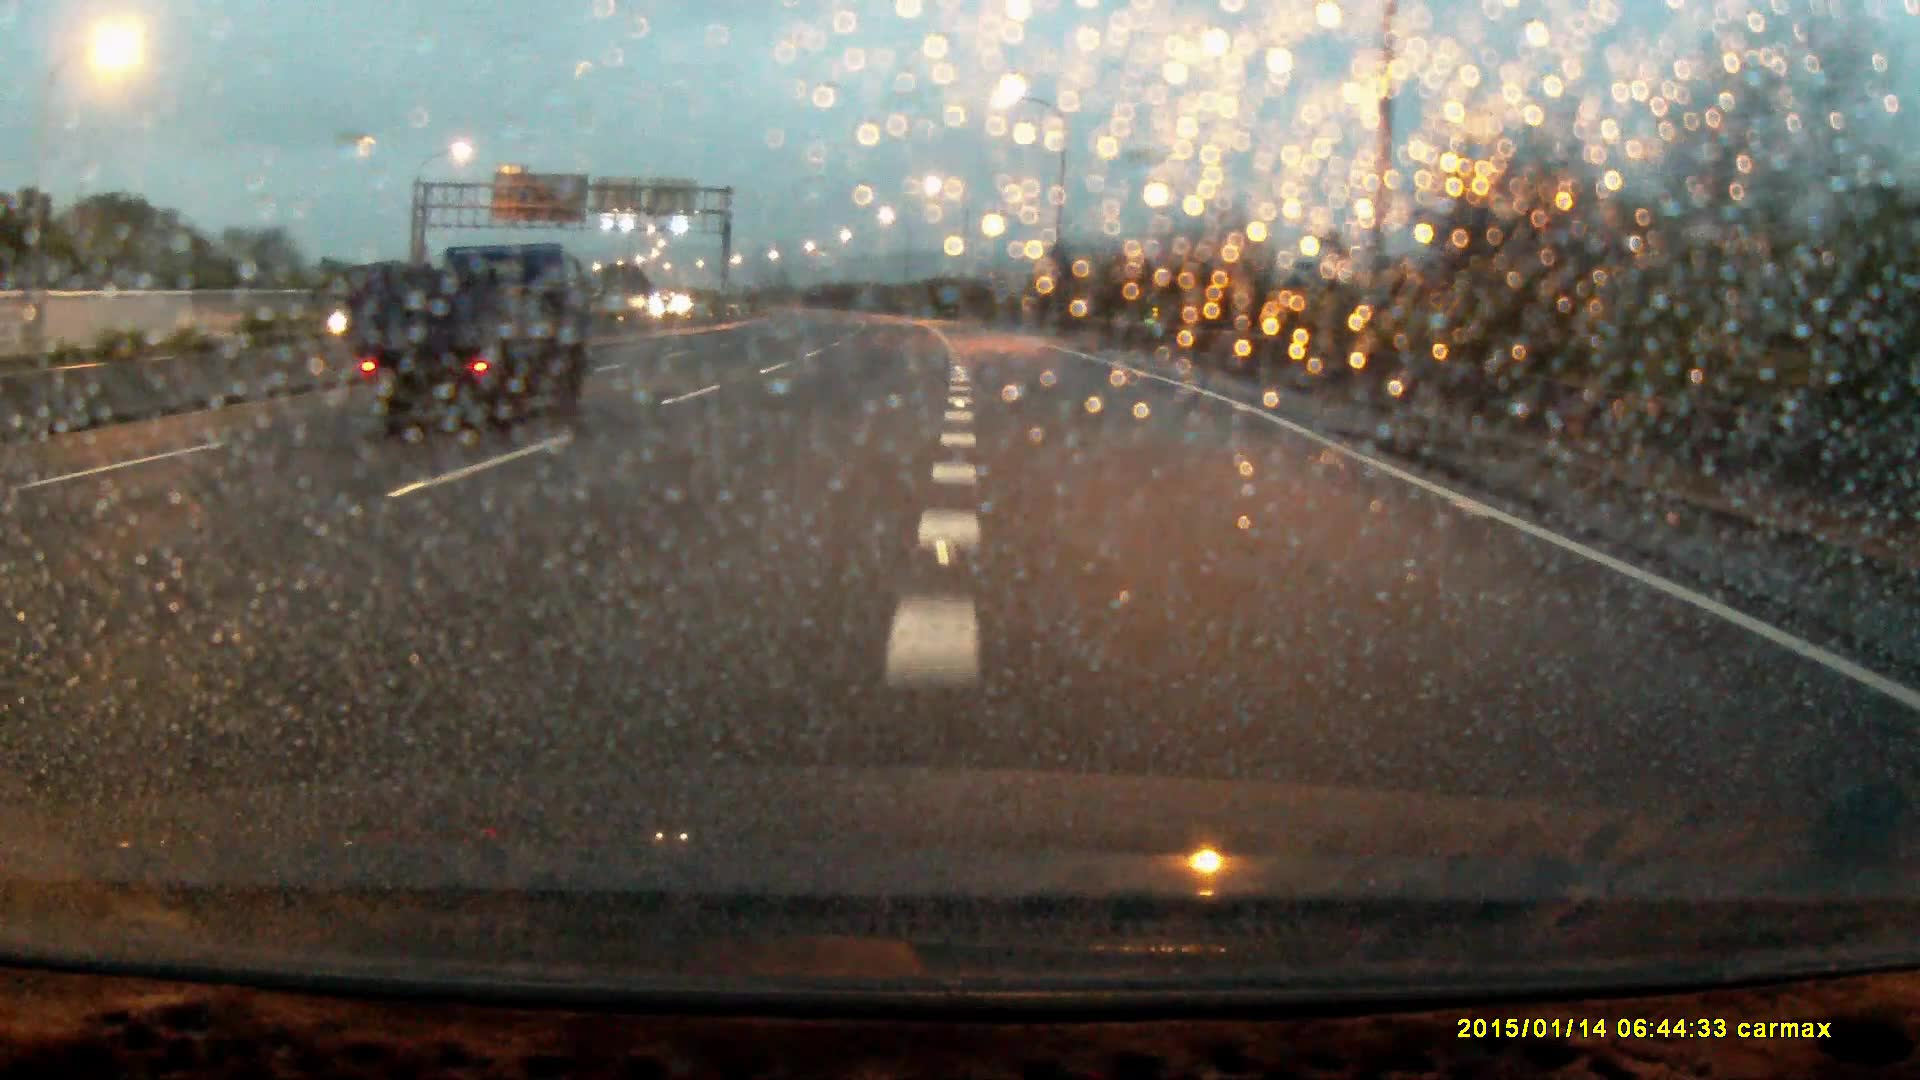vehicle: (343, 240, 582, 430)
